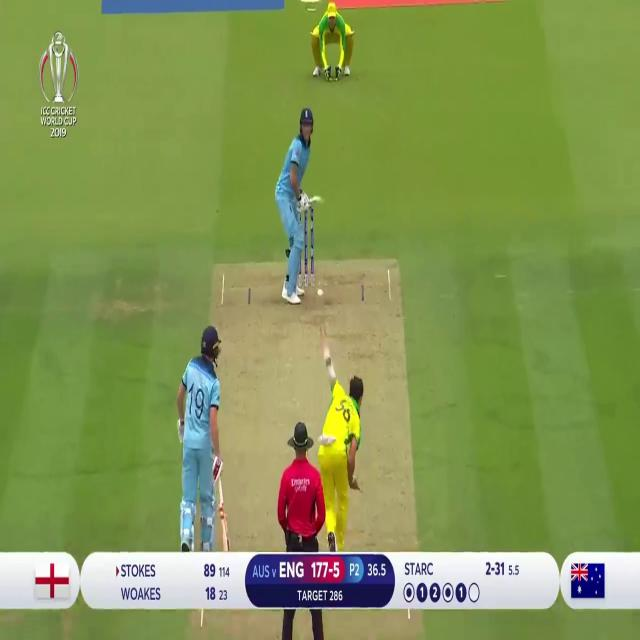ball: (316, 284, 323, 302)
